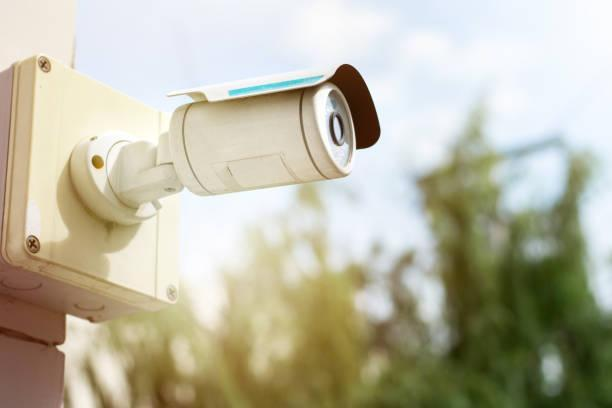camera: (127, 47, 419, 216)
